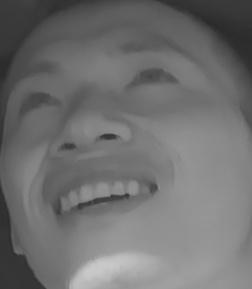eye: (126, 57, 185, 98), (11, 79, 66, 120)
mouth: (36, 166, 164, 228)
